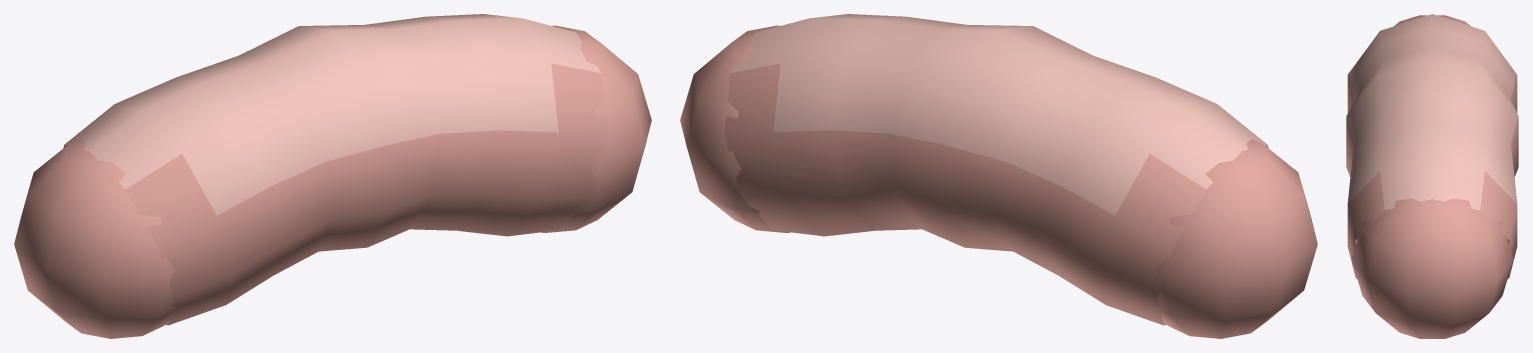
Rendered from organ_intestine_segment.glb.
The picture shows the model from 3 angles, left to right: view 1: azimuth 30°, elevation 25°; view 2: azimuth 150°, elevation 25°; view 3: azimuth 270°, elevation 25°; orthographic projection. The views are drawn at different scales.
Visible parts, largest first — view 1: organ_intestine_segment; view 2: organ_intestine_segment; view 3: organ_intestine_segment.
Boxes of the visible parts, x1=… form: organ_intestine_segment: x1=14, y1=14, x2=651, y2=338; organ_intestine_segment: x1=680, y1=14, x2=1317, y2=338; organ_intestine_segment: x1=1346, y1=14, x2=1518, y2=338.
Bounding box in the file's own units: 0.0838 × 0.0325 × 0.0266.
